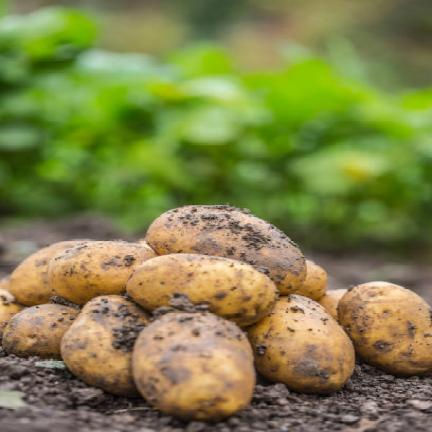potato: (146, 205, 305, 294), (132, 312, 254, 419), (127, 253, 277, 325), (248, 294, 354, 393), (339, 282, 431, 375), (61, 296, 146, 395), (48, 240, 155, 304), (8, 239, 91, 305), (2, 304, 78, 358), (294, 260, 326, 300), (0, 287, 22, 337), (318, 288, 346, 320)
